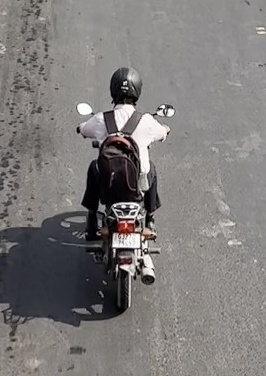BikeWithRider: (72, 64, 176, 310)
Helmet: (108, 65, 144, 109)
